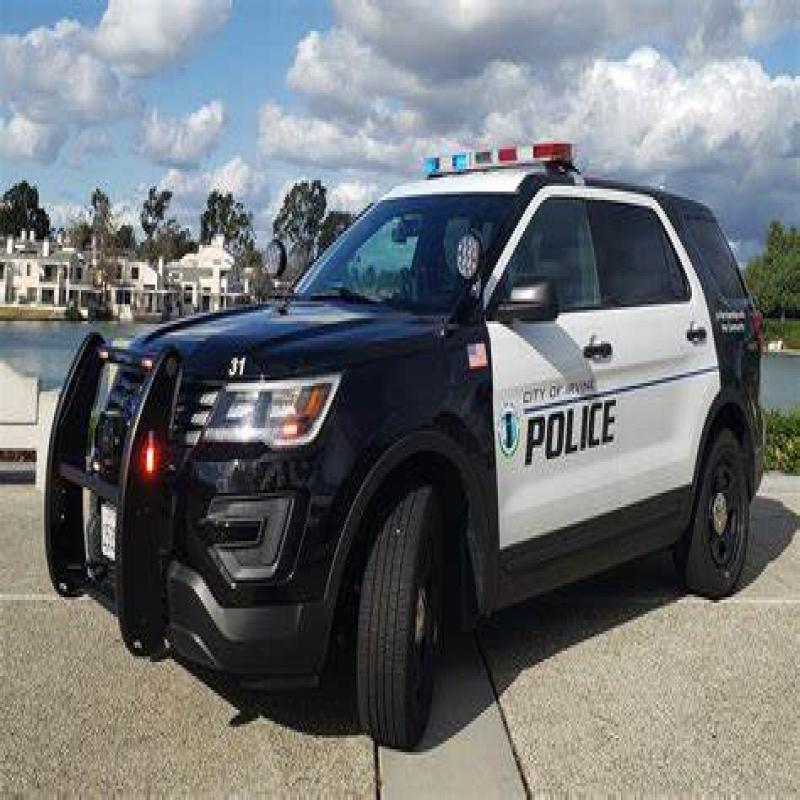AmbulanceSiren: (423, 127, 577, 186)
